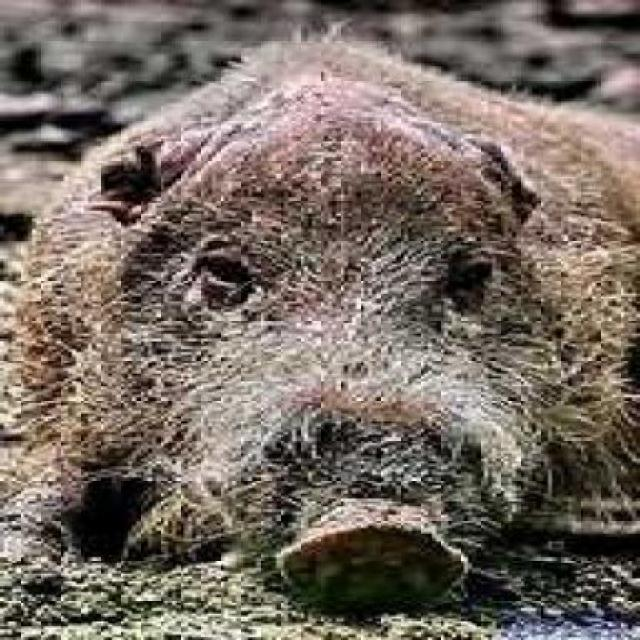pig: (21, 31, 607, 595)
